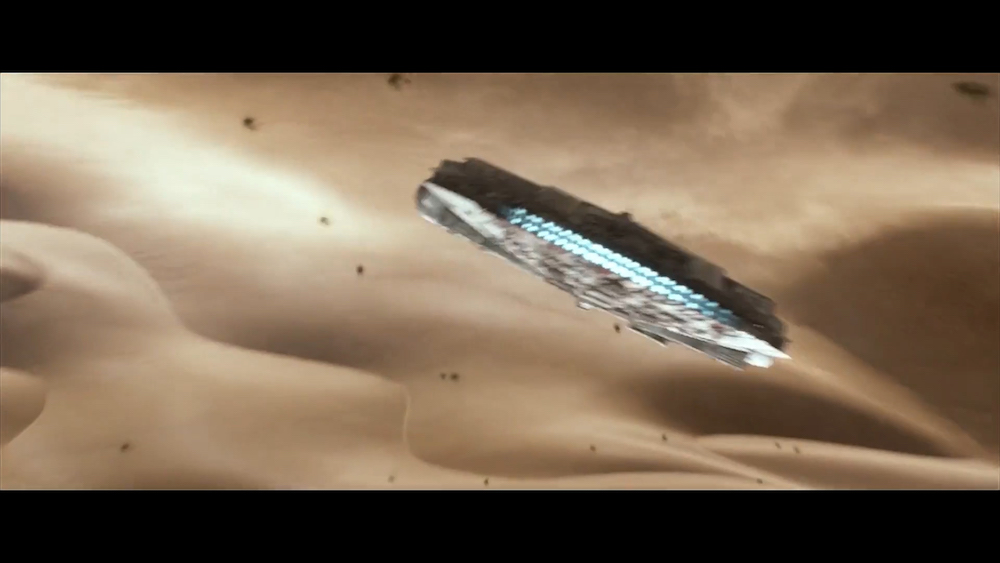Millennium Falcon: (413, 155, 796, 376)
